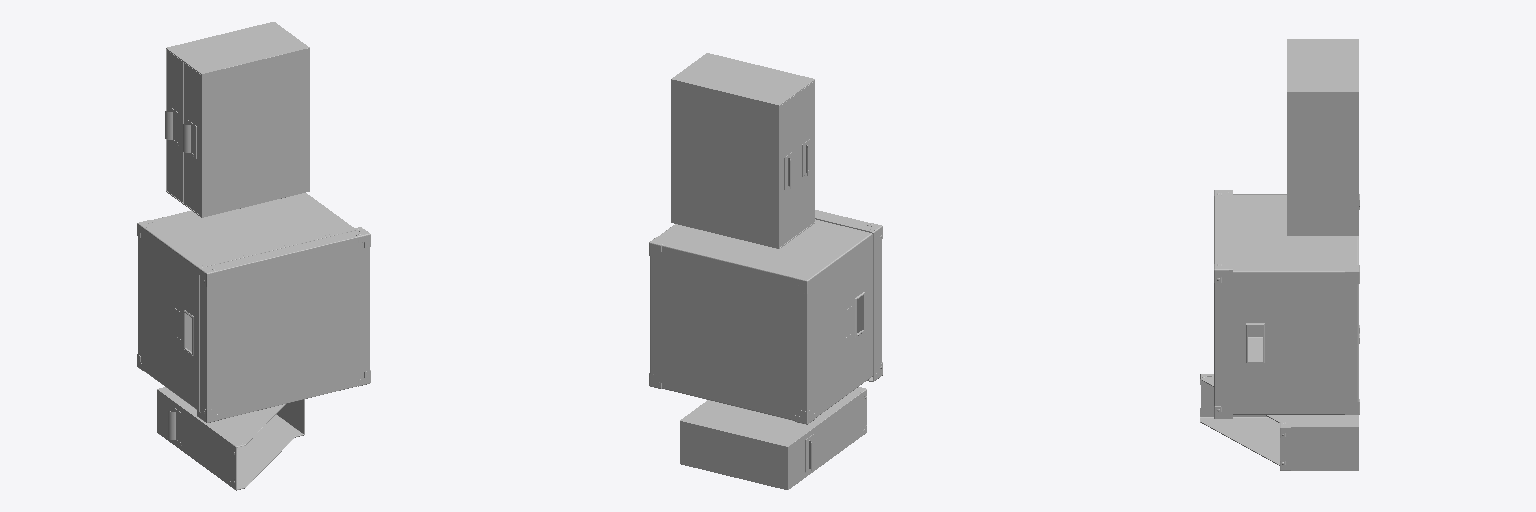
File: canvas boxes.obj
The picture shows the model from 3 angles: view 1: azimuth 30°, elevation 25°; view 2: azimuth 150°, elevation 25°; view 3: azimuth 270°, elevation 25°; orthographic projection.
Visible parts, largest first — view 1: Box_02, Paper_Box01, Box_08, Magazine_Box05, Box_03, Box_01; view 2: Box_08, Paper_Box01, Magazine_Box05, Box_02, Box_07, Box_03; view 3: Box_08, Paper_Box01, Magazine_Box05, Box_02, Box_03.
Part boxes in pixels (left/top/right/bottom): Box_02: left=200, top=230, right=369, bottom=419; Paper_Box01: left=166, top=22, right=309, bottom=217; Box_08: left=138, top=193, right=353, bottom=409; Magazine_Box05: left=157, top=387, right=304, bottom=488; Box_03: left=197, top=227, right=362, bottom=416; Box_01: left=199, top=229, right=370, bottom=422; Box_08: left=650, top=219, right=872, bottom=420; Paper_Box01: left=671, top=53, right=814, bottom=248; Magazine_Box05: left=680, top=389, right=866, bottom=489; Box_02: left=815, top=210, right=881, bottom=381; Box_07: left=649, top=237, right=814, bottom=424; Box_03: left=815, top=216, right=875, bottom=381; Box_08: left=1233, top=194, right=1358, bottom=414; Paper_Box01: left=1287, top=39, right=1358, bottom=235; Magazine_Box05: left=1201, top=374, right=1358, bottom=470; Box_02: left=1214, top=193, right=1228, bottom=412; Box_03: left=1229, top=190, right=1232, bottom=418.
Bounding box in the file's own units: 3.97 × 8.8 × 3.32.